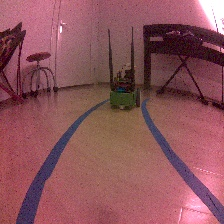rob: (108, 68, 140, 110)
